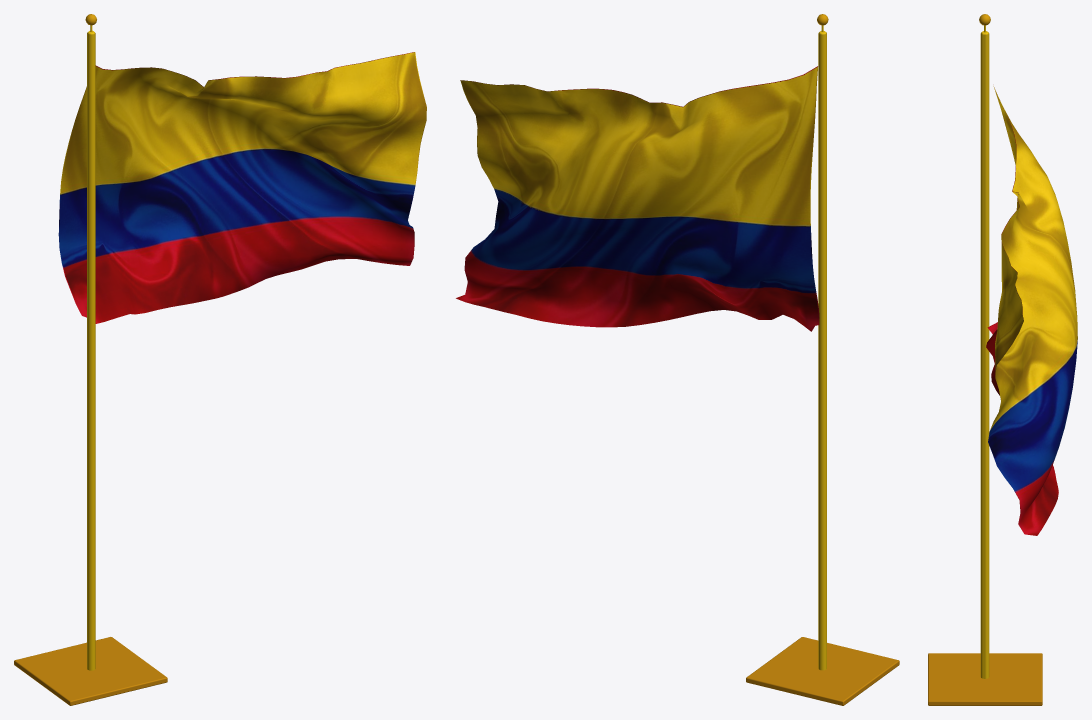
Rendered from colombia.glb.
The picture shows the model from 3 angles, left to right: view 1: azimuth 30°, elevation 25°; view 2: azimuth 150°, elevation 25°; view 3: azimuth 270°, elevation 25°; orthographic projection.
Parts seen in each view (by area): view 1: sim, Rectangle003, pole; view 2: sim, Rectangle003, pole; view 3: sim, pole, Rectangle003.
Part boxes in pixels (x1=…): sim: x1=58, y1=52, x2=426, y2=323; Rectangle003: x1=14, y1=637, x2=167, y2=705; pole: x1=87, y1=30, x2=95, y2=670; sim: x1=456, y1=66, x2=819, y2=331; Rectangle003: x1=746, y1=637, x2=899, y2=705; pole: x1=818, y1=31, x2=826, y2=670; sim: x1=986, y1=86, x2=1077, y2=535; pole: x1=980, y1=31, x2=989, y2=678; Rectangle003: x1=928, y1=653, x2=1042, y2=705.
Bounding box in the file's own units: 1.6 × 2.58 × 0.5234.
Materials: 1 (1 with a texture image).
